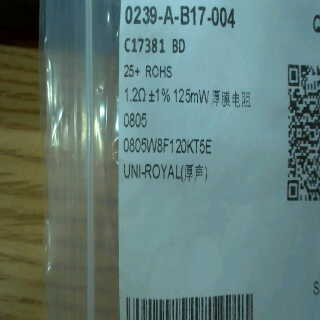1.2R: (121, 83, 150, 132)
